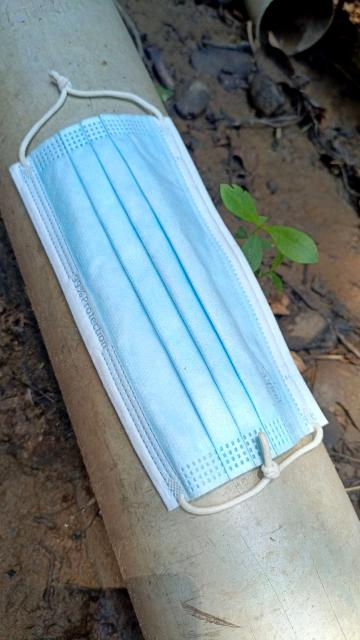mask: (1, 60, 342, 510)
